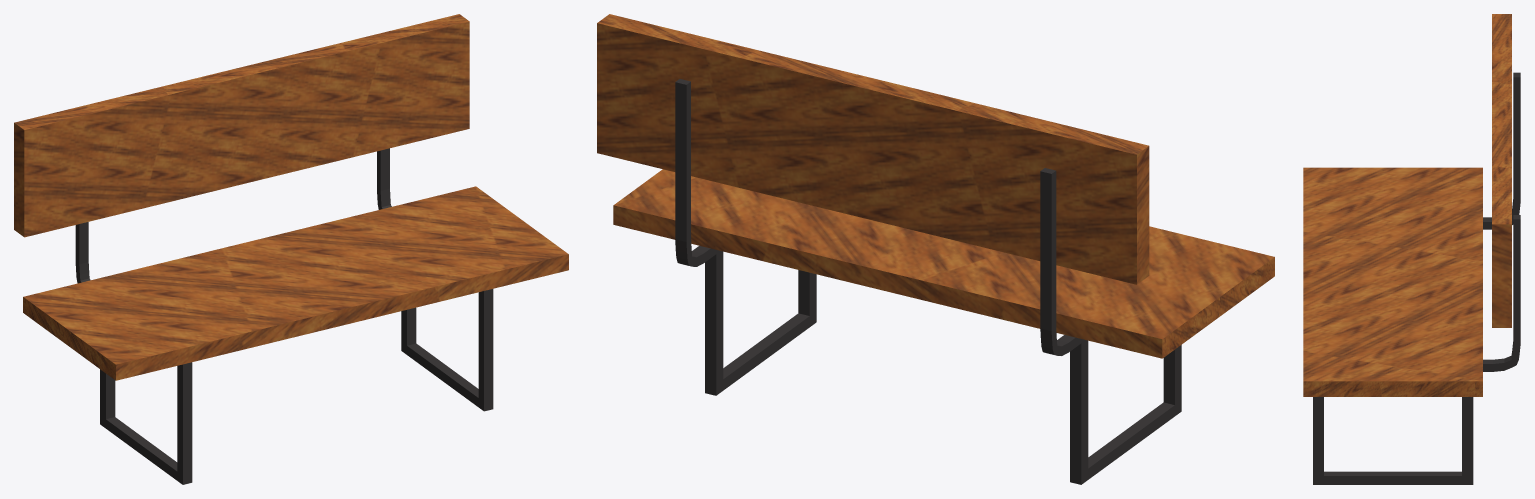
The model's file is bench.obj.
3 renders of one model, left to right at view 1: azimuth 30°, elevation 25°; view 2: azimuth 150°, elevation 25°; view 3: azimuth 270°, elevation 25°, orthographic. The views are drawn at different scales.
Parts seen in each view (by area): view 1: Cube.001, Cube, Cube.003_Cube.004, Cube.002; view 2: Cube.001, Cube, Cube.003_Cube.004, Cube.002; view 3: Cube, Cube.001, Cube.002, Cube.003_Cube.004.
Boxes of the visible parts, x1=… form: Cube.001: x1=14, y1=14, x2=469, y2=237; Cube: x1=23, y1=186, x2=568, y2=380; Cube.003_Cube.004: x1=75, y1=222, x2=192, y2=484; Cube.002: x1=377, y1=148, x2=493, y2=411; Cube.001: x1=597, y1=14, x2=1149, y2=284; Cube: x1=613, y1=169, x2=1274, y2=358; Cube.003_Cube.004: x1=1040, y1=168, x2=1181, y2=484; Cube.002: x1=675, y1=79, x2=816, y2=395; Cube: x1=1303, y1=167, x2=1482, y2=396; Cube.001: x1=1492, y1=14, x2=1511, y2=327; Cube.002: x1=1313, y1=215, x2=1520, y2=484; Cube.003_Cube.004: x1=1483, y1=72, x2=1520, y2=229.
Bounding box in the file's own units: 5.64 × 3.6 × 2.42.
Materials: 3 (3 with a texture image).
